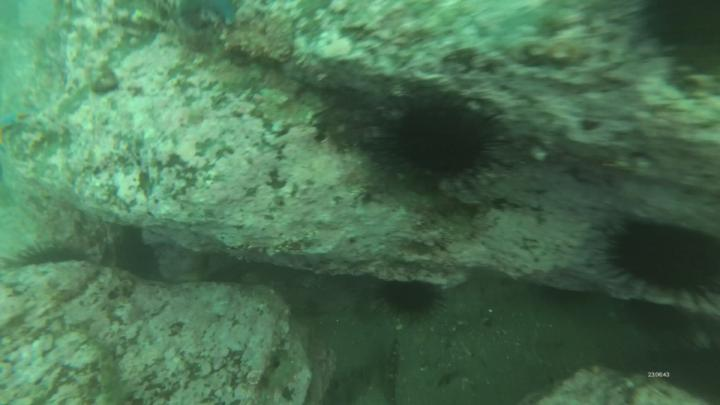echinus: (385, 101, 499, 187), (612, 217, 720, 302), (381, 275, 444, 321)
